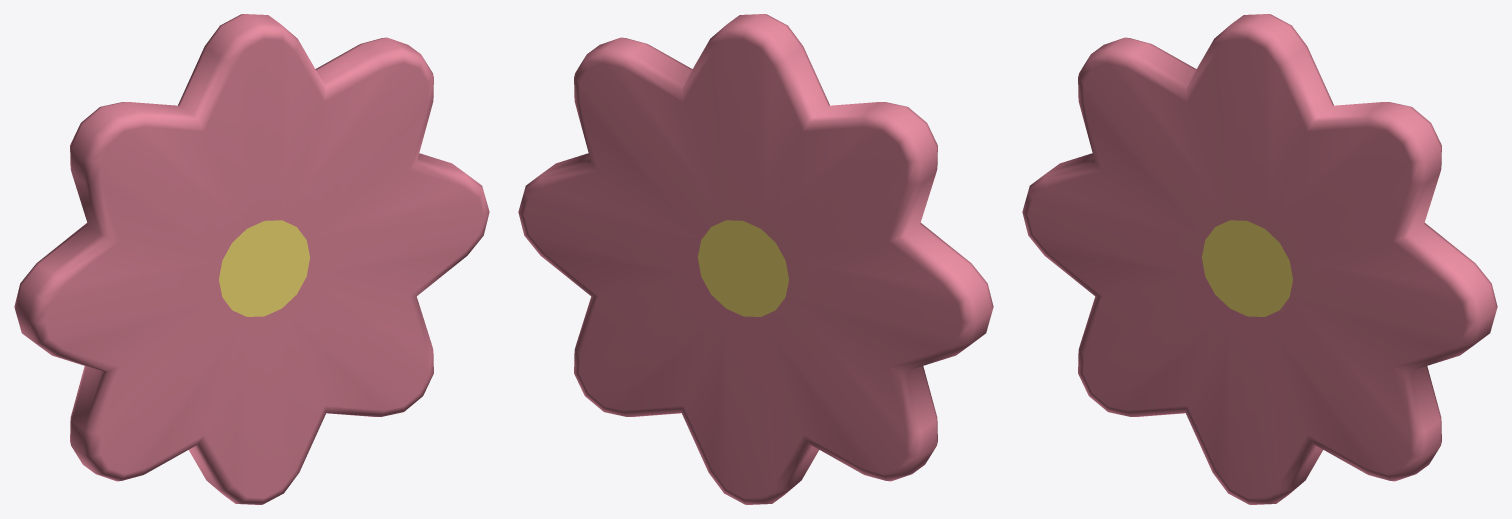
File: Decoration_6.glb
3 renders of one model, left to right at view 1: azimuth 30°, elevation 25°; view 2: azimuth 150°, elevation 25°; view 3: azimuth 330°, elevation 25°, orthographic.
Visible parts, largest first — view 1: Decoration_6; view 2: Decoration_6; view 3: Decoration_6.
Part boxes in pixels (<box>): Decoration_6: <box>14,14,489,504</box>; Decoration_6: <box>518,14,993,504</box>; Decoration_6: <box>1022,14,1497,504</box>.
Size of the model in its own units: 0.5421 by 0.5421 by 0.0511.
1 material, 1 textured.
